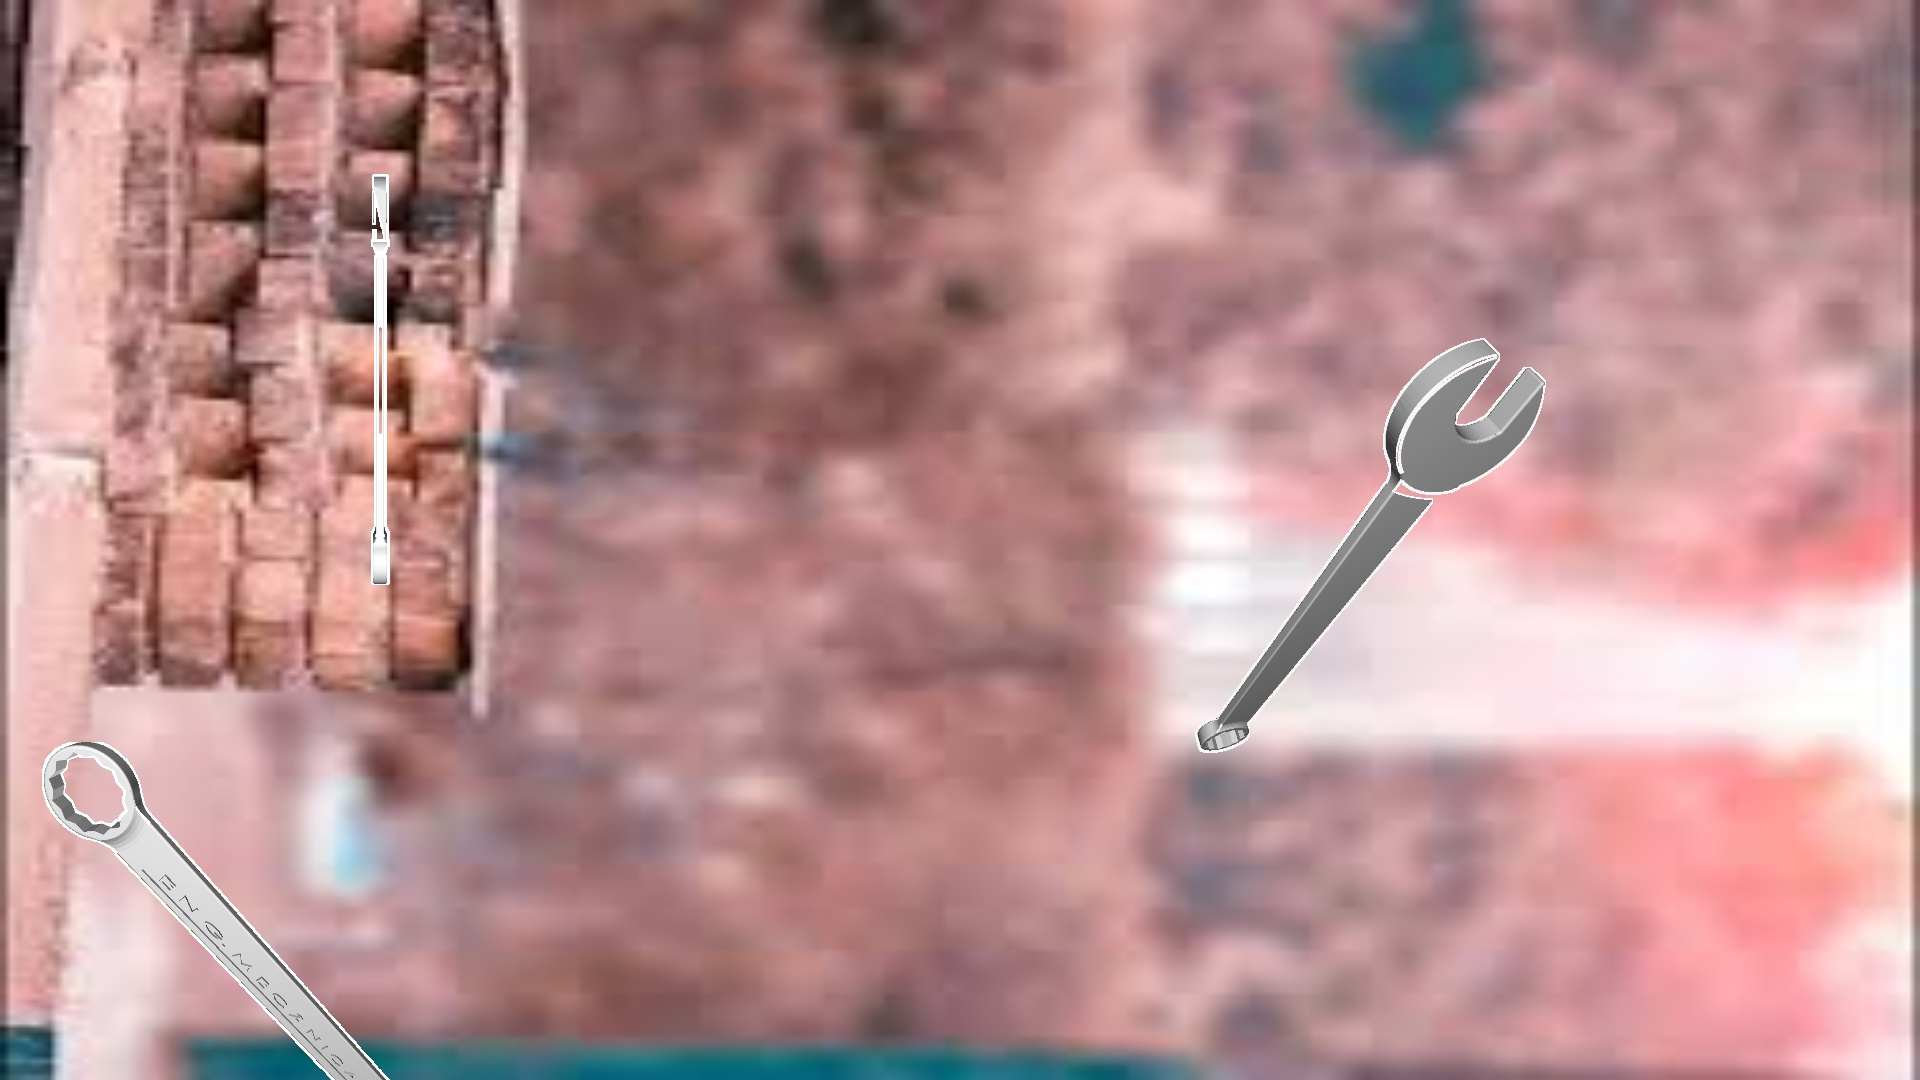Mixed Key: (1195, 338, 1545, 752), (42, 742, 389, 1079), (371, 174, 389, 584)
